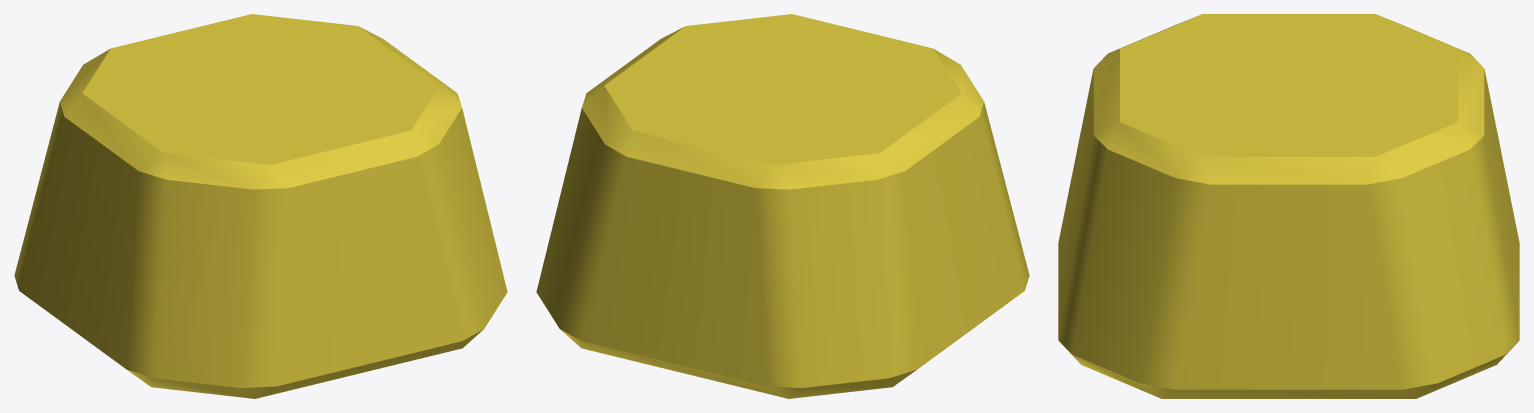
The model's file is fbx_club_sofa1.fbx.
The picture shows the model from 3 angles, left to right: view 1: azimuth 30°, elevation 25°; view 2: azimuth 150°, elevation 25°; view 3: azimuth 270°, elevation 25°; orthographic projection. The views are drawn at different scales.
Parts seen in each view (by area): view 1: fbx_club_sofa1; view 2: fbx_club_sofa1; view 3: fbx_club_sofa1.
Part boxes in pixels (x1,y1,x2,y2): fbx_club_sofa1: (14, 14, 507, 398); fbx_club_sofa1: (536, 14, 1029, 398); fbx_club_sofa1: (1058, 14, 1519, 398).
Size of the model in its own units: 1.46 by 0.785 by 1.46.
1 material, 1 textured.
